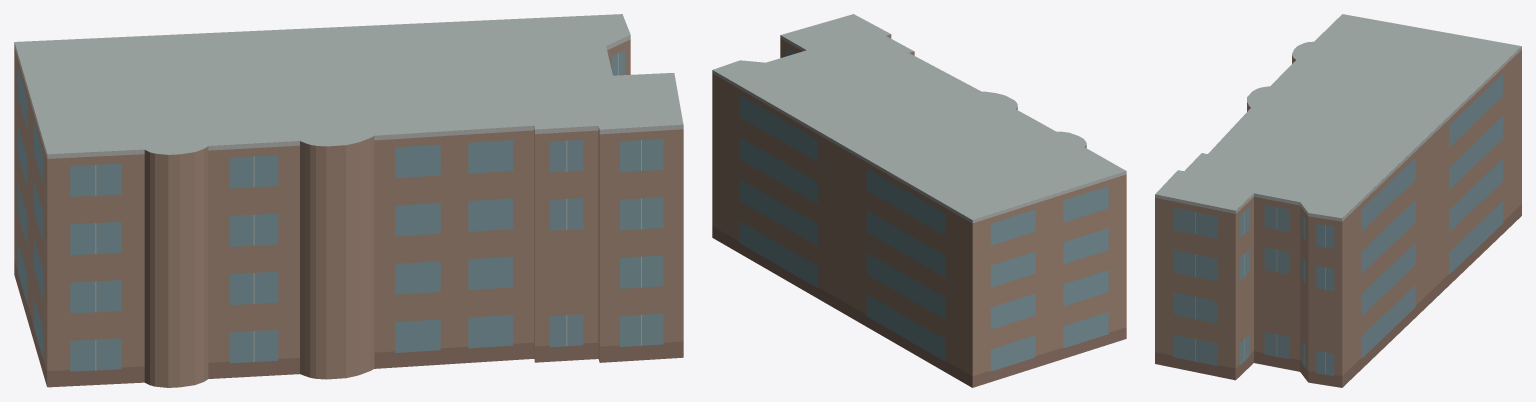
The model's file is survey-upis-32880319.glb.
3 views of the same model, side by side, from view 1: azimuth 30°, elevation 25°; view 2: azimuth 150°, elevation 25°; view 3: azimuth 270°, elevation 25° (orthographic). The views are drawn at different scales.
Parts seen in each view (by area): view 1: survey-upis-32880319.tmp; view 2: survey-upis-32880319.tmp; view 3: survey-upis-32880319.tmp.
Boxes of the visible parts, <box> form: survey-upis-32880319.tmp: <box>14,14,683,387</box>; survey-upis-32880319.tmp: <box>712,14,1126,387</box>; survey-upis-32880319.tmp: <box>1155,14,1521,387</box>.
Size of the model in its own units: 31.78 by 12.3 by 24.12.
